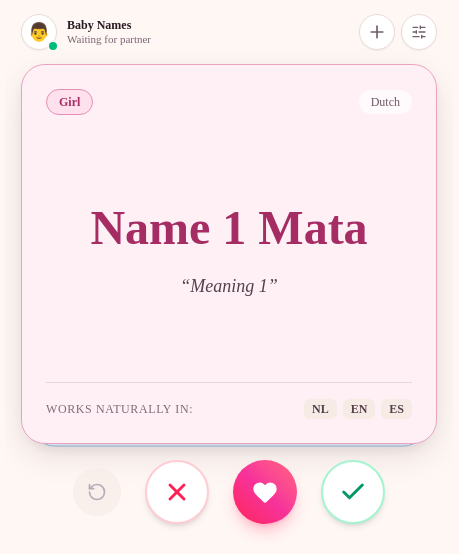
Test: DeckScreen › renders a card, posts the swipe body, and removes it optimistically
The image size is (459, 554).
Expected: the heading "Name 1 Mata" is shown, [90,201,368,254]
What coordinates should you click on to do the following:
click the button named "Like this name"
I would click on:
 (353, 492)
Its box is [321,460,385,524].
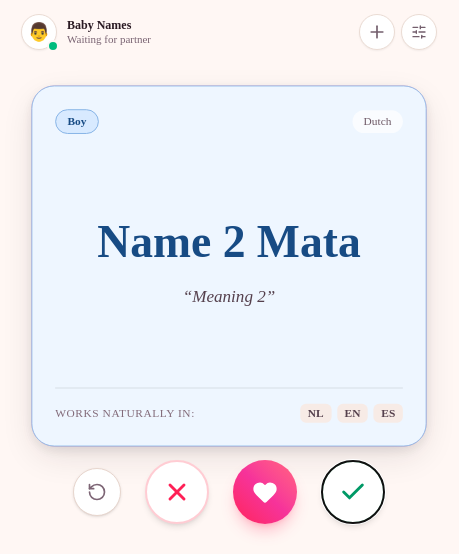
Expected: the heading "Name 2 Mata" is shown, [97,216,361,266]
Now the heading "Name 1 Mata" is gone
